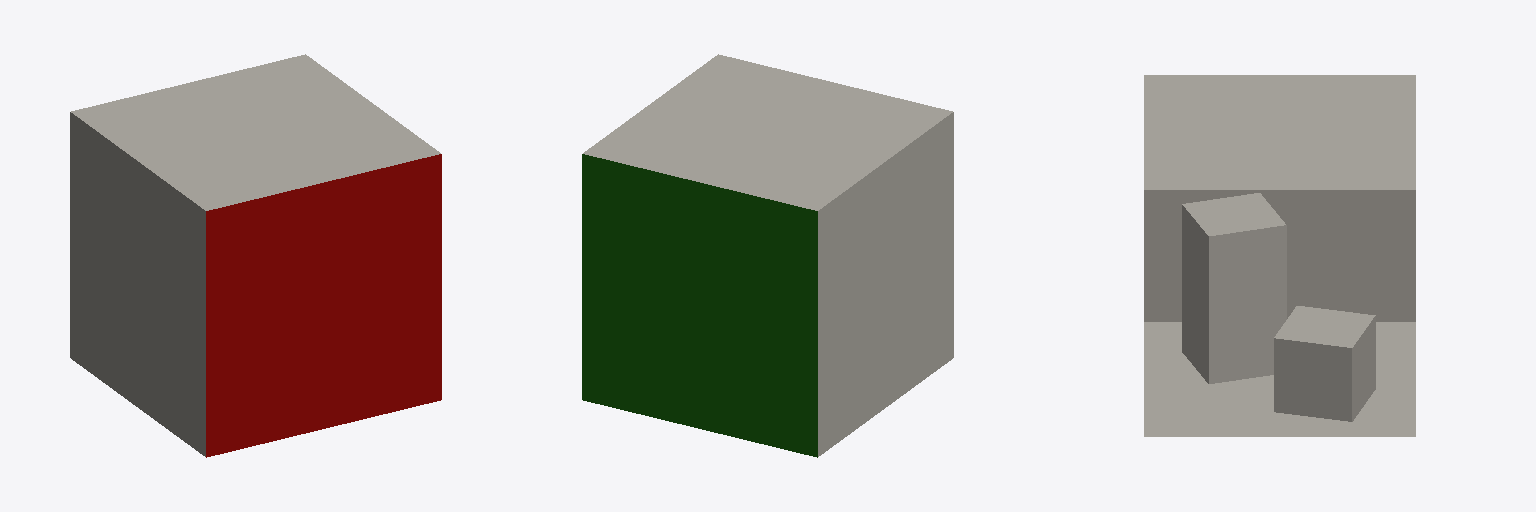
The model's file is cornell-box.obj.
3 renders of one model, left to right at view 1: azimuth 30°, elevation 25°; view 2: azimuth 150°, elevation 25°; view 3: azimuth 270°, elevation 25°, orthographic.
Visible parts, largest first — view 1: left, back, top; view 2: right, back, top; view 3: top, back, tall, down, short.
Boxes of the visible parts, box(x1,y1,x2,y2) form: left: box(206, 154, 441, 457); back: box(70, 112, 205, 456); top: box(71, 54, 440, 210); right: box(582, 154, 817, 457); back: box(818, 112, 953, 456); top: box(583, 54, 952, 210); top: box(1144, 75, 1415, 189); back: box(1144, 190, 1415, 321); tall: box(1182, 193, 1286, 383); down: box(1144, 322, 1415, 436); short: box(1274, 306, 1375, 421).
Size of the model in its own units: 2 by 2 by 2.